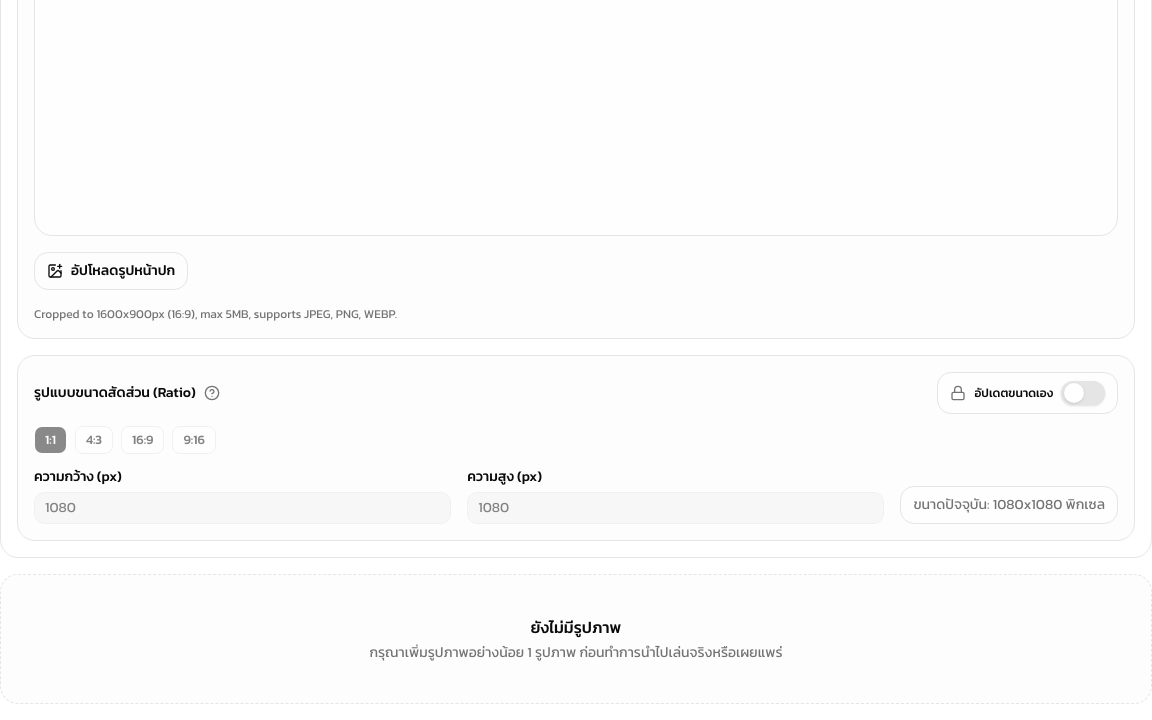
Test: PictureRevealContentForm › keeps ratio preset changes after the editor rerenders
(page scrolled)
Expected: the button "16:9" is disabled, [121,426,164,454]
Step 1. Click the switch → (1083, 393), box [1061,381,1105,405]
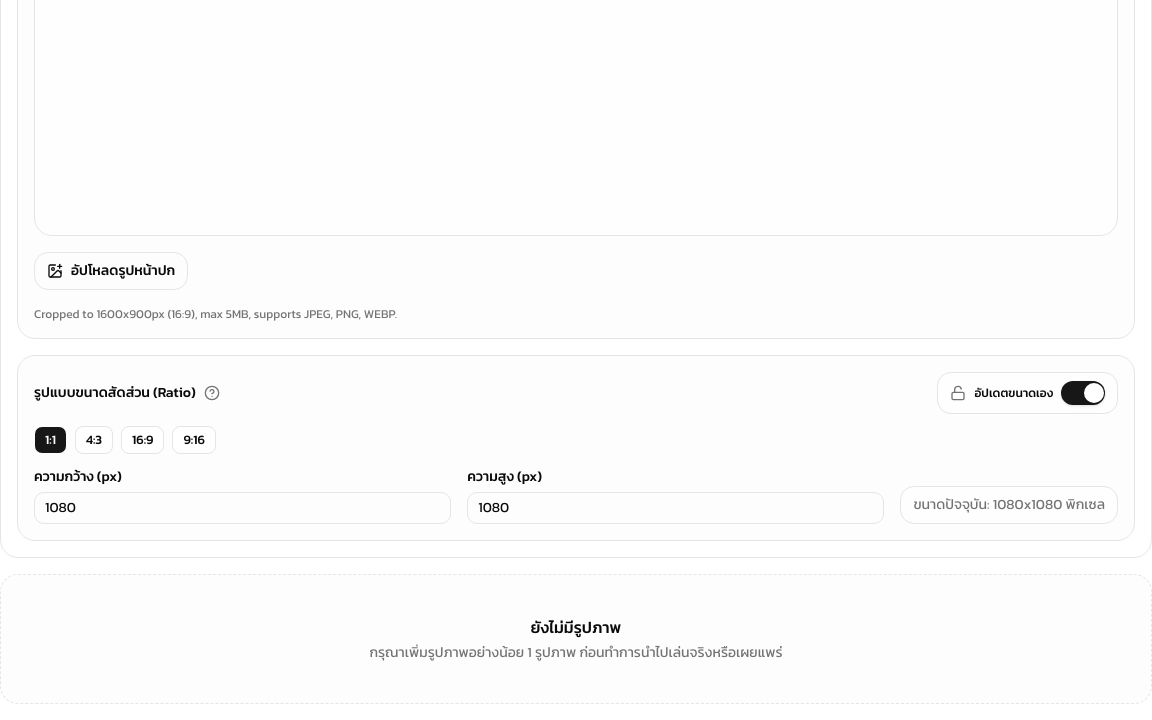
Now the button "16:9" is enabled
Step 2. Click the button "16:9" → (143, 440), box [121,426,164,454]
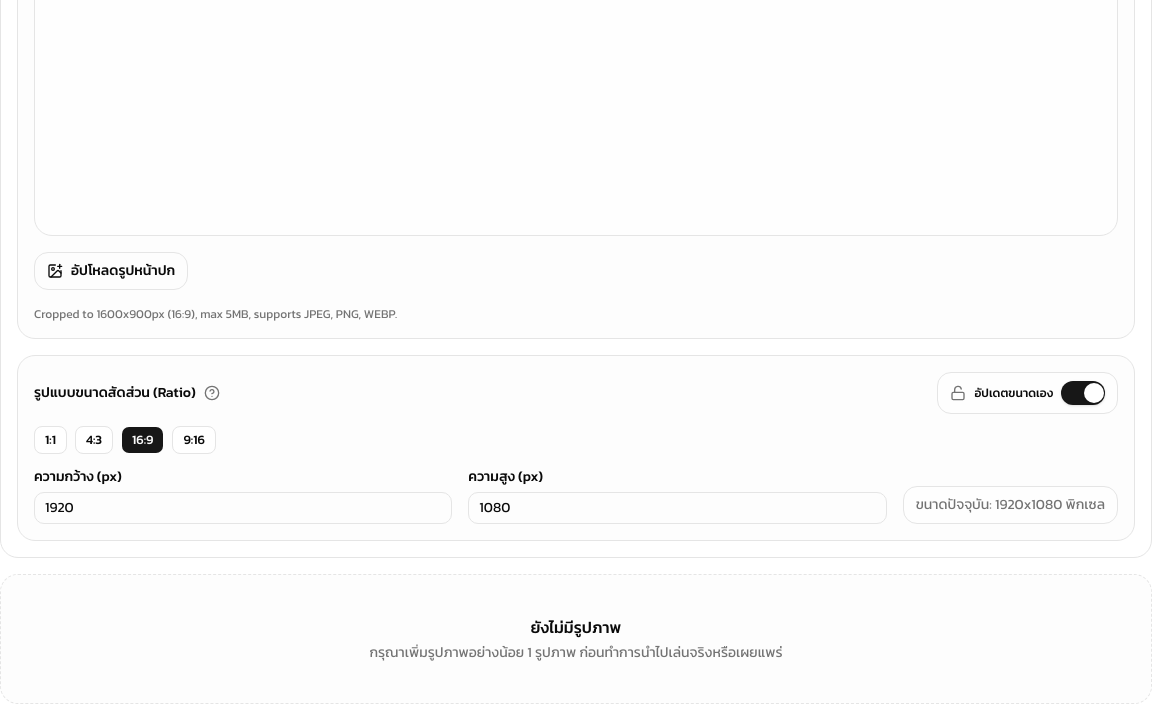
Expected: the number field with id "content-image-height" holds "1080", [468,492,887,524]
Now the text "ขนาดปัจจุบัน: 1920x1080" is shown, box [903,486,1118,524]
Now the number field with id "content-image-width" holds "1920", box [34,492,452,524]
